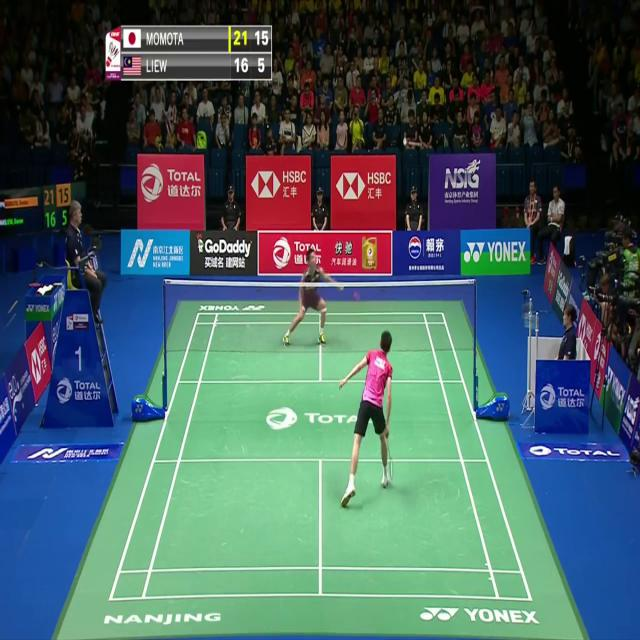Shuttlecock: (402, 136, 408, 147)
